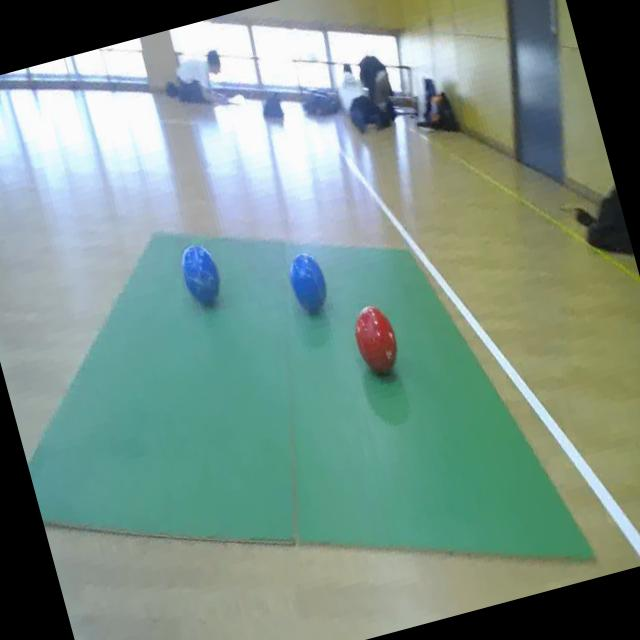blue_ball: (172, 238, 228, 310), (282, 244, 335, 320)
red_ball: (342, 294, 408, 386)
